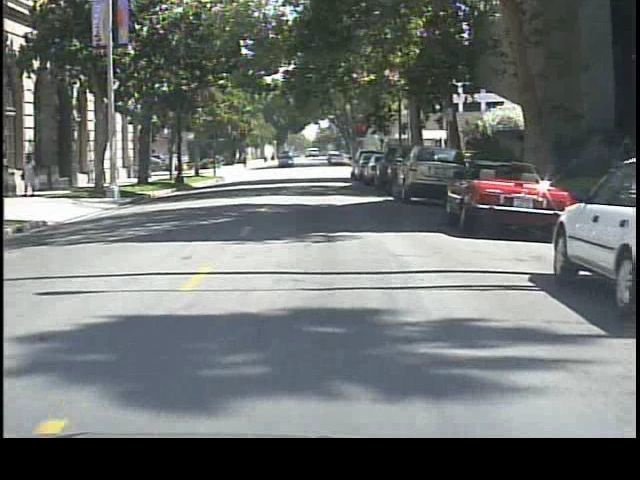person: (17, 152, 43, 196)
